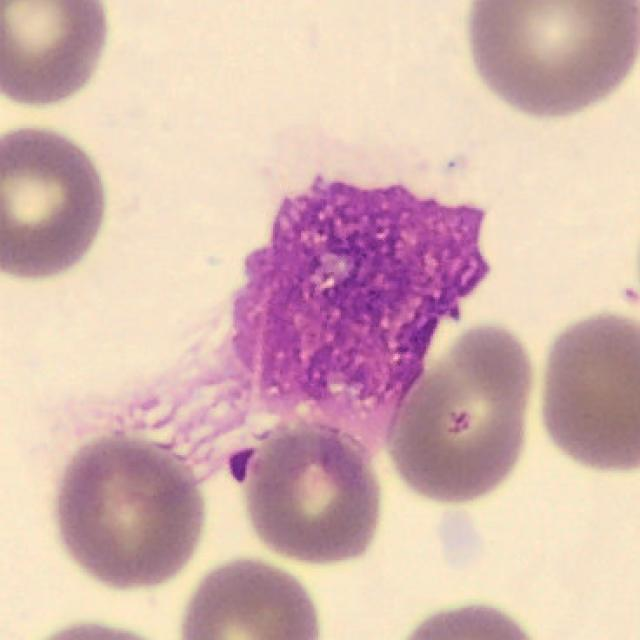Restos celulares: (123, 180, 490, 473)
